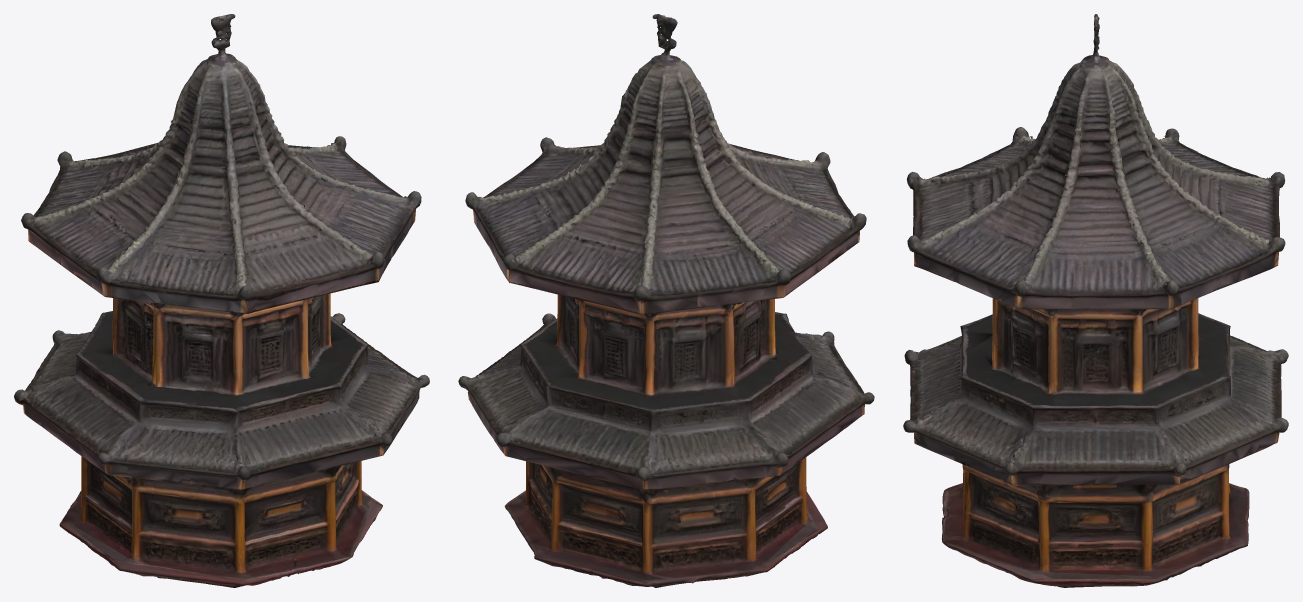
The model's file is bq_granary.glb.
The picture shows the model from 3 angles, left to right: view 1: azimuth 30°, elevation 25°; view 2: azimuth 150°, elevation 25°; view 3: azimuth 270°, elevation 25°; orthographic projection.
Size of the model in its own units: 1.3 by 1.99 by 1.31.
1 material, 1 textured.
